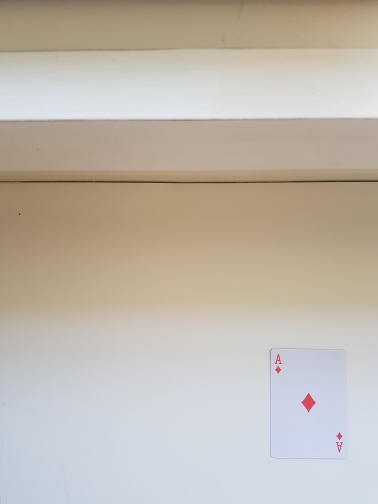ace: (268, 347, 350, 460)
